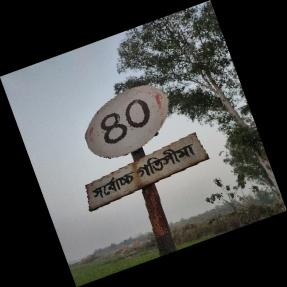Speed-limit: (83, 83, 206, 214)
